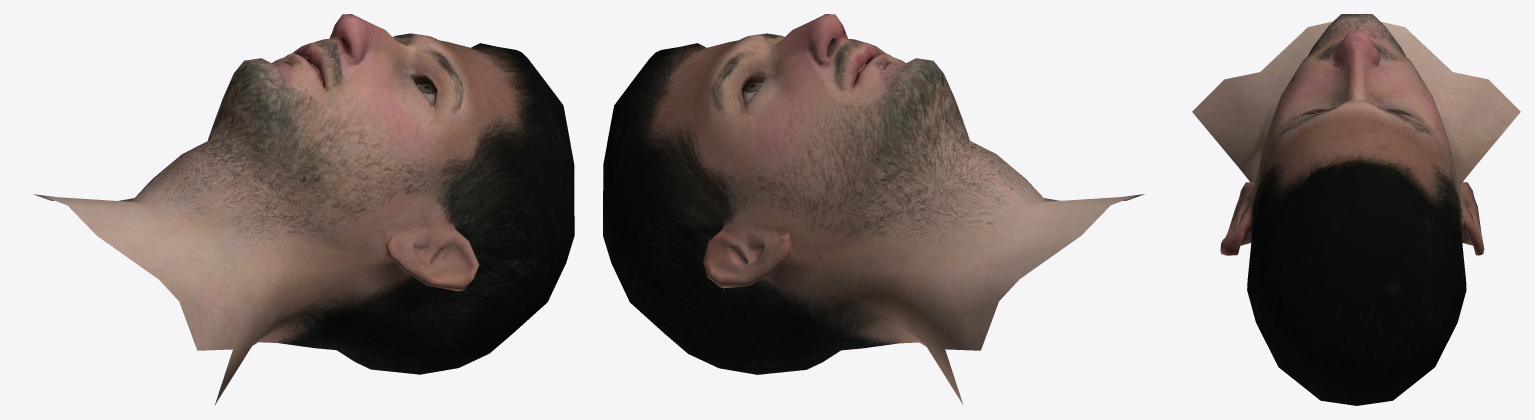
File: head_russian_winter_jon.glb
The picture shows the model from 3 angles, left to right: view 1: azimuth 30°, elevation 25°; view 2: azimuth 150°, elevation 25°; view 3: azimuth 270°, elevation 25°; orthographic projection. The views are drawn at different scales.
Size of the model in its own units: 14.52 by 10.37 by 9.4.
1 material, 1 textured.
